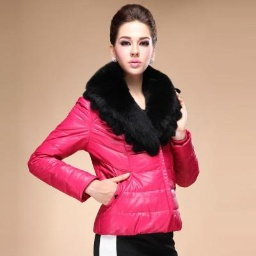face: (104, 2, 165, 80)
